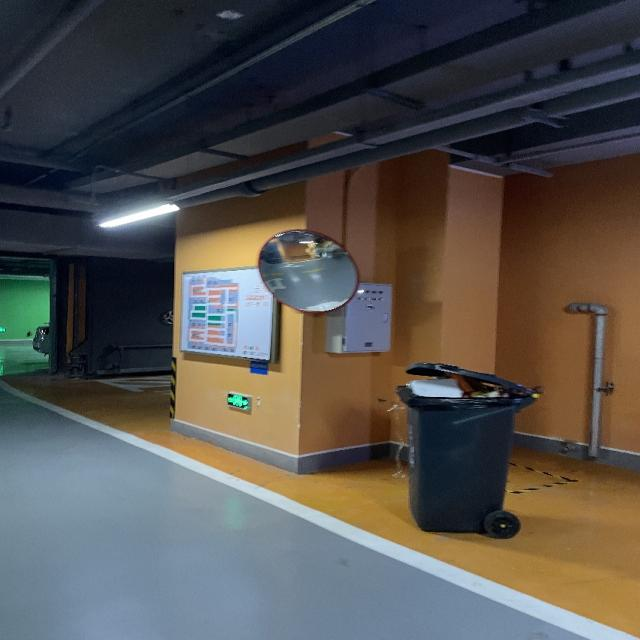overflow: (395, 362, 536, 532)
